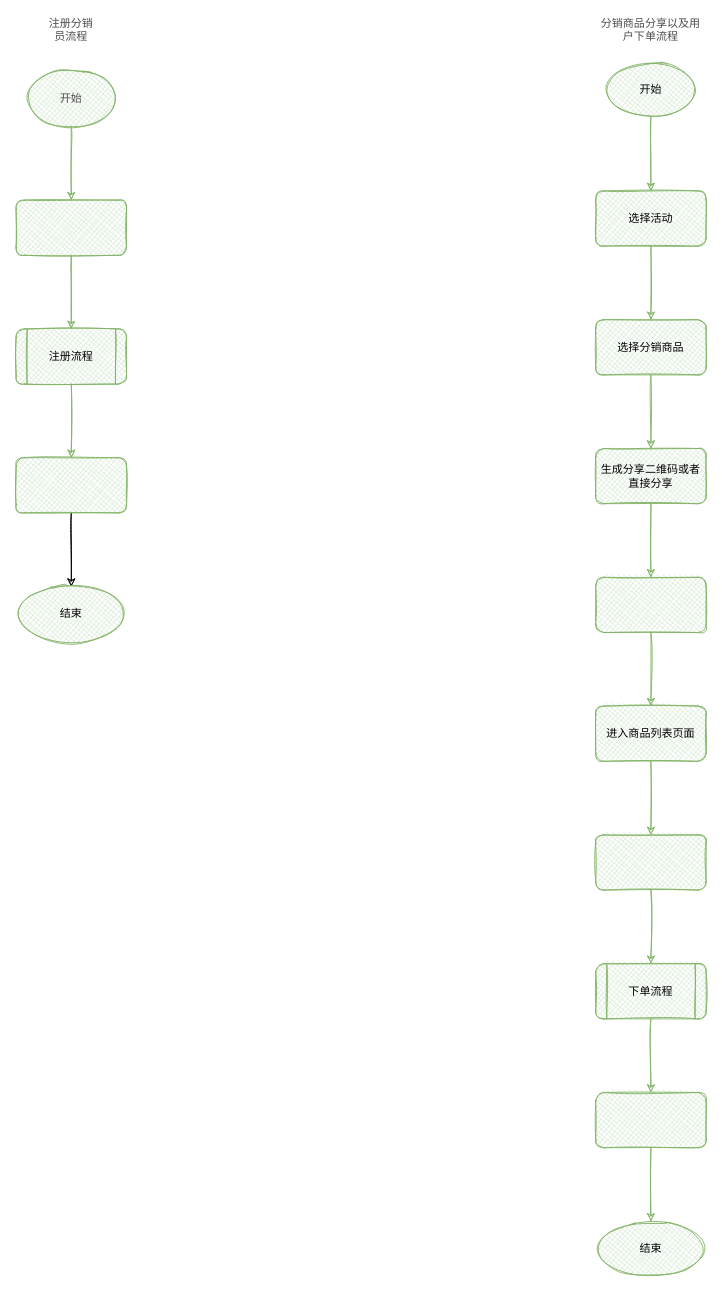
Image size: 722x1293. Some labels were removed from this diagram. Here are the shapes that lost their labels. From the top down, the box of each, then its label:
(15, 199, 126, 255): 用户扫注册分销员二维码
(15, 457, 126, 513): 进入分销员个人页面
(595, 576, 706, 632): 用户扫分销员分享过来的二维码
(595, 834, 706, 890): 选择需要购买的商品
(595, 1092, 706, 1148): 分销员获得佣金
